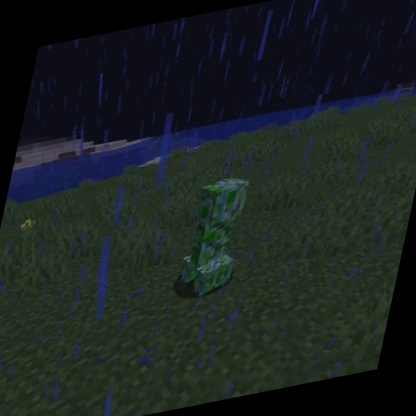creeper: (167, 169, 259, 305)
